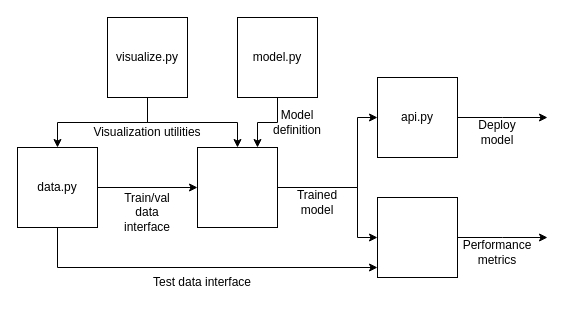
Some shapes in this 573 by 315 pixel diagram are drawn without their labels. Each missing label, with the centre of its shape:
"evaluate.py" belongs at (417,237).
"train .py" belongs at (237,187).
